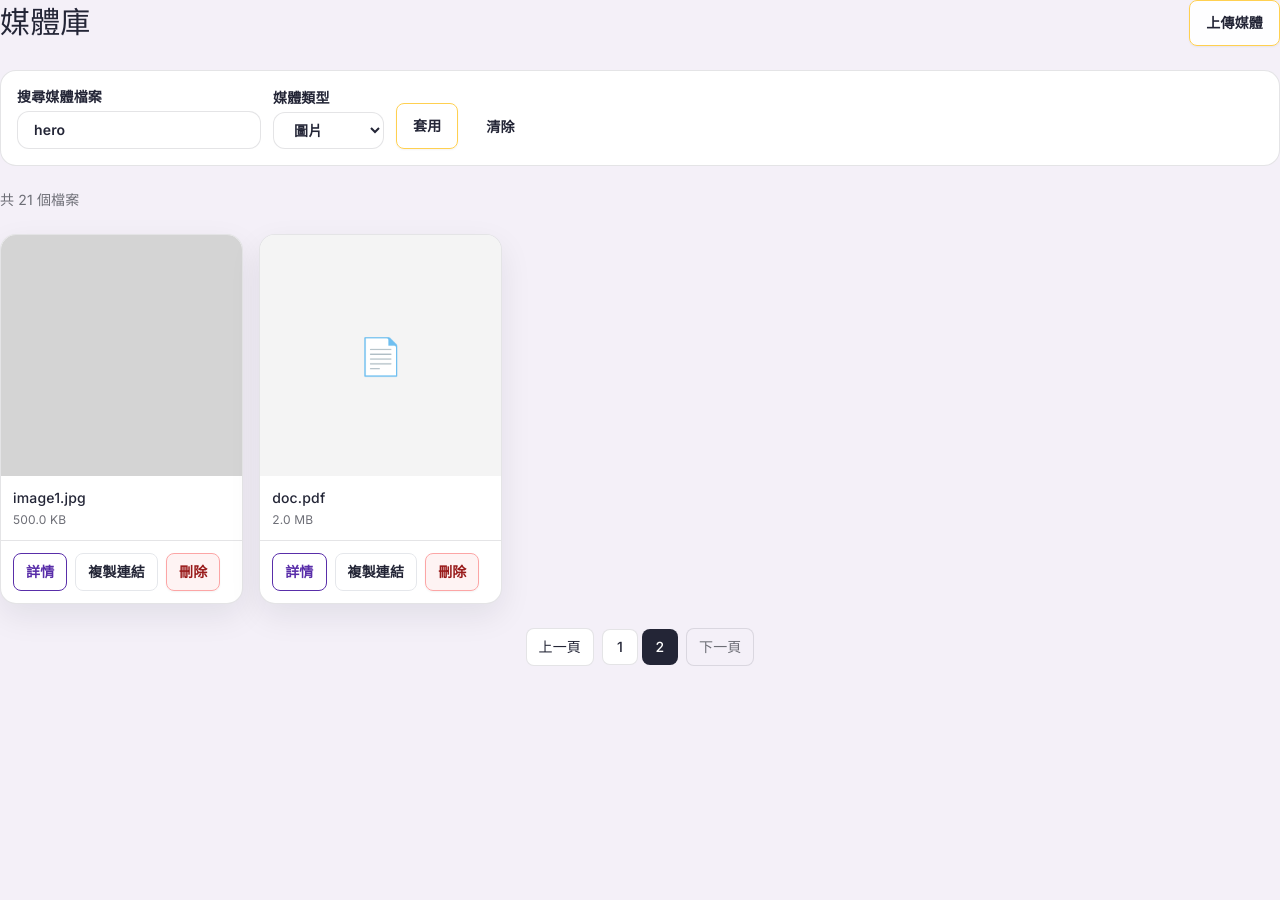
it: MediaLibraryClient › 僅 manual-review 候選時放行進確認對話框並列出候選 (C3)
Click the button "刪除" below "500.0 KB" at (193, 572), box [166, 553, 220, 591]
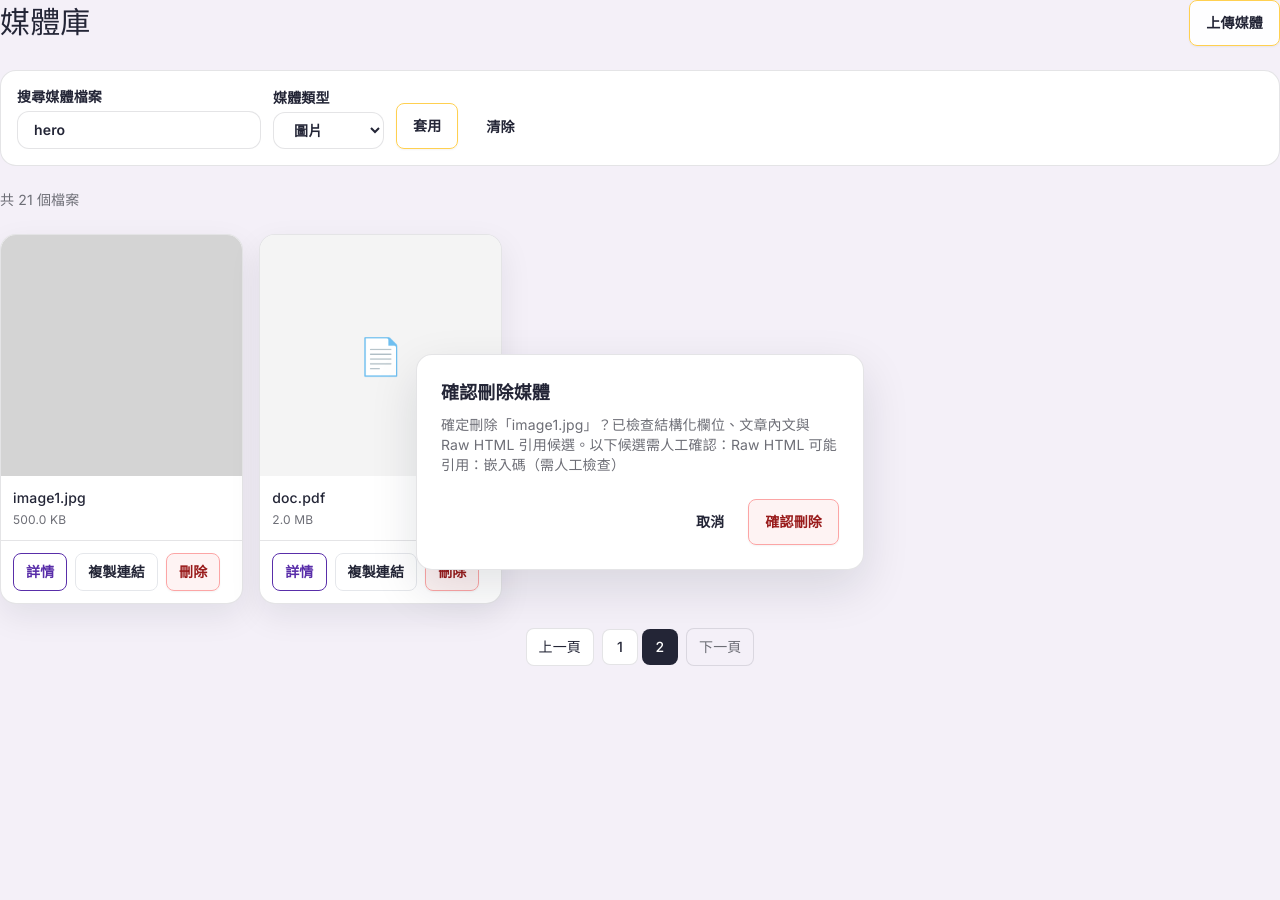
Result: the button "確認刪除" is shown at [748, 499, 839, 545]
Result: the text "嵌入碼" is shown at [441, 416, 837, 473]
